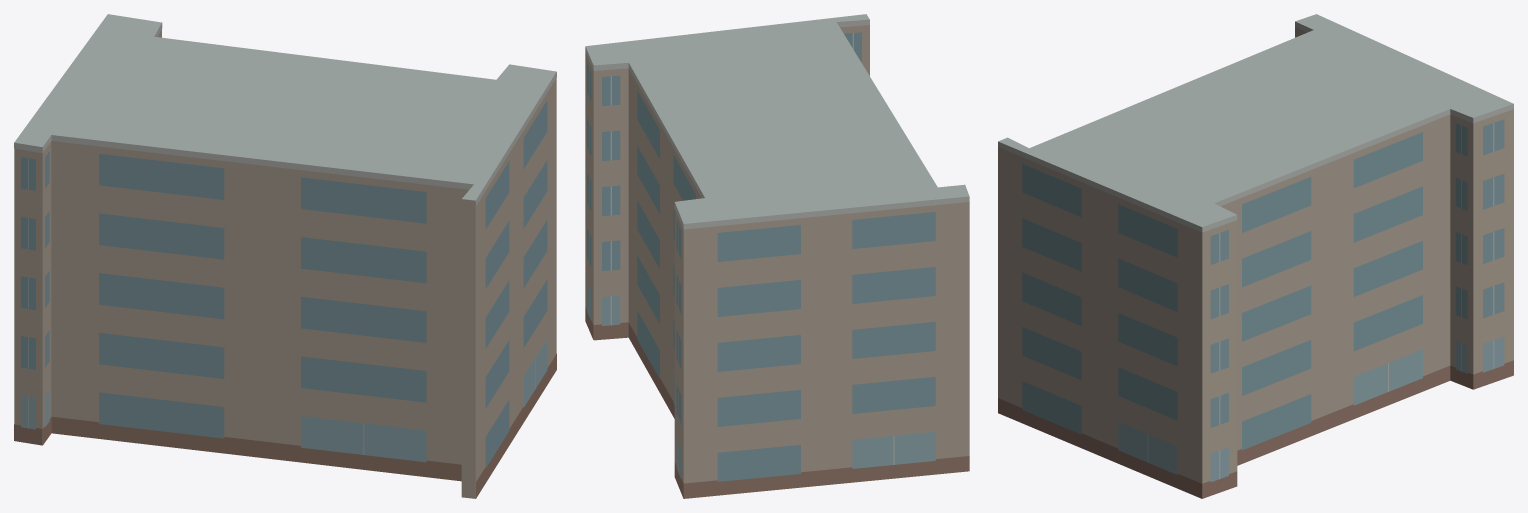
File: survey-upis-32683862.glb
3 renders of one model, left to right at view 1: azimuth 30°, elevation 25°; view 2: azimuth 150°, elevation 25°; view 3: azimuth 270°, elevation 25°, orthographic. The views are drawn at different scales.
Visible parts, largest first — view 1: survey-upis-32683862.tmp; view 2: survey-upis-32683862.tmp; view 3: survey-upis-32683862.tmp.
Part boxes in pixels (box(x1,y1,x2,y2)): survey-upis-32683862.tmp: box(14, 14, 556, 498); survey-upis-32683862.tmp: box(585, 14, 969, 498); survey-upis-32683862.tmp: box(998, 14, 1513, 498).
Bounding box in the file's own units: 20.66 × 12.27 × 21.12.
